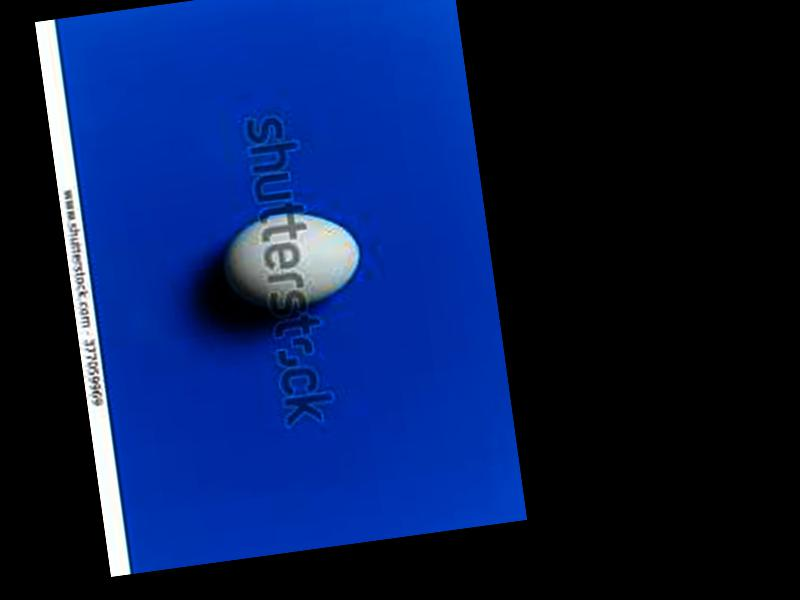Eggs: (217, 206, 369, 316)
